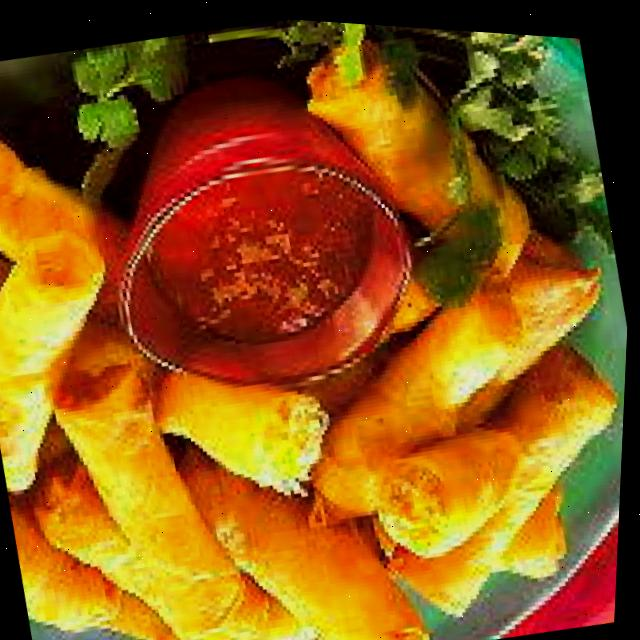鸡蛋料理: (0, 81, 637, 640)
